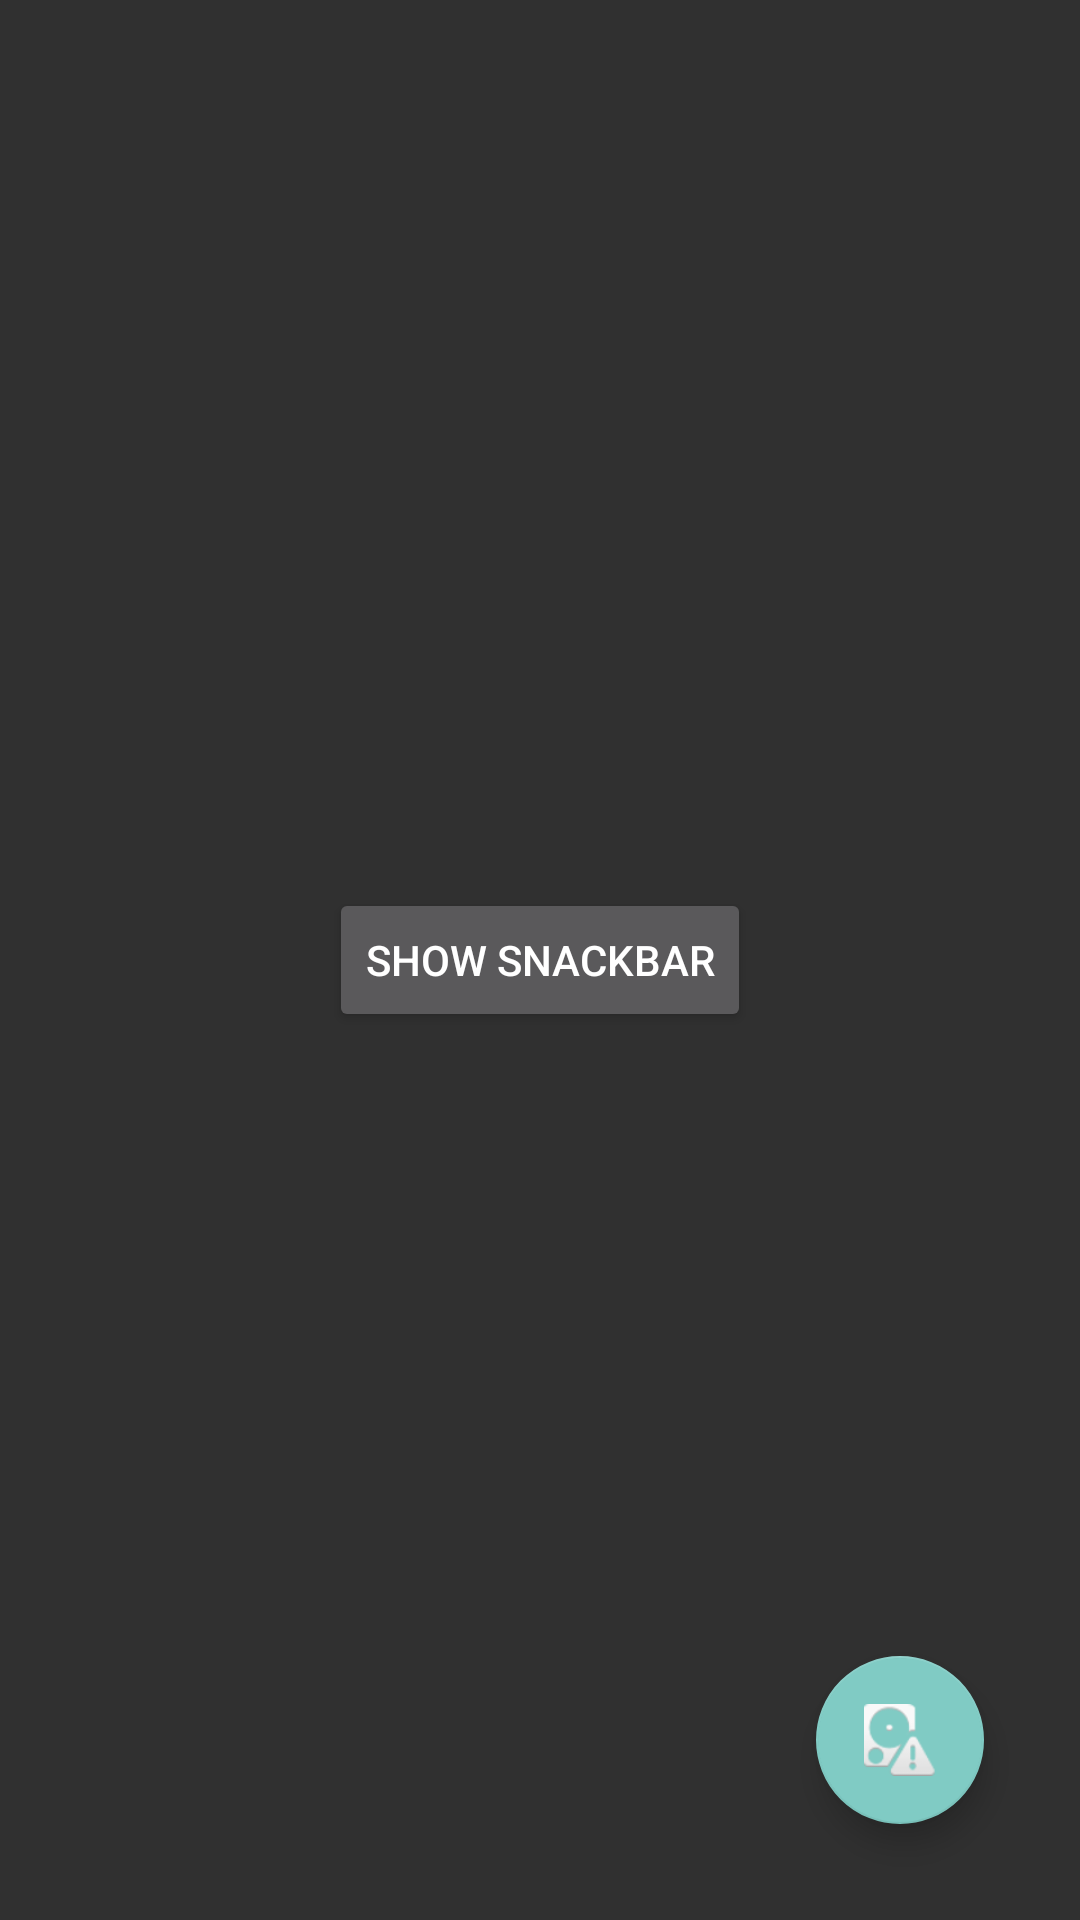

Point at icon controls on the screen. Image size 1080x1920, points as (x,y).
popup disk full: (900,1740)
